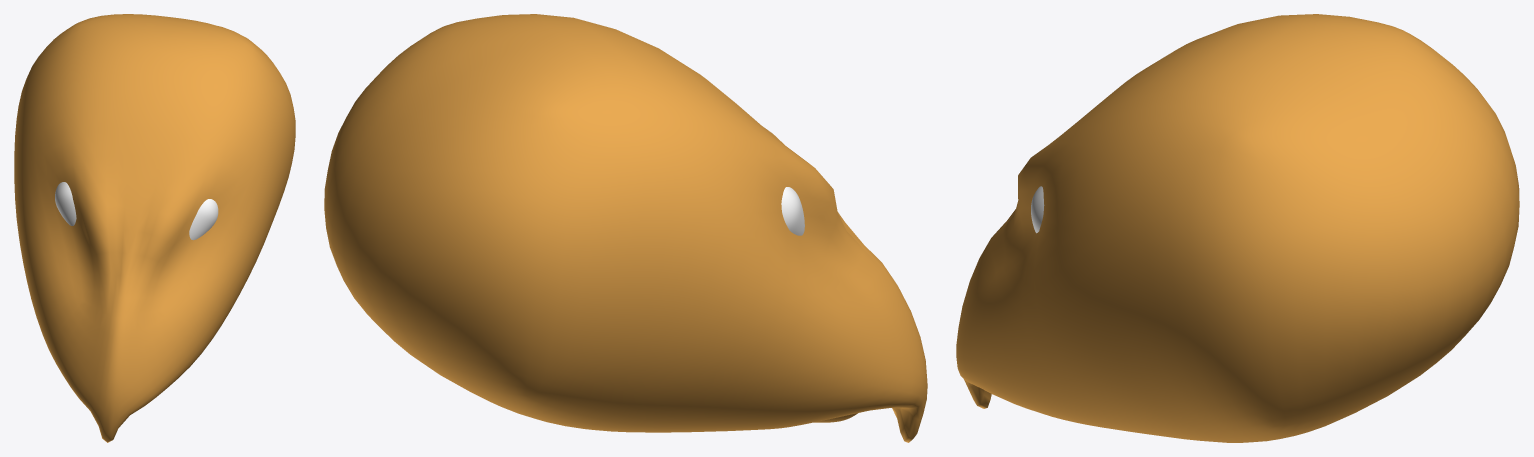
The model's file is finalhead.fbx.
3 views of the same model, side by side, from view 1: azimuth 30°, elevation 25°; view 2: azimuth 150°, elevation 25°; view 3: azimuth 270°, elevation 25° (orthographic). The views are drawn at different scales.
Visible parts, largest first — view 1: Head; view 2: Head; view 3: Head.
Boxes of the visible parts, <box> form: Head: <box>14,14,295,442</box>; Head: <box>324,14,927,442</box>; Head: <box>956,14,1519,442</box>.
Size of the model in its own units: 124 by 124 by 133.
